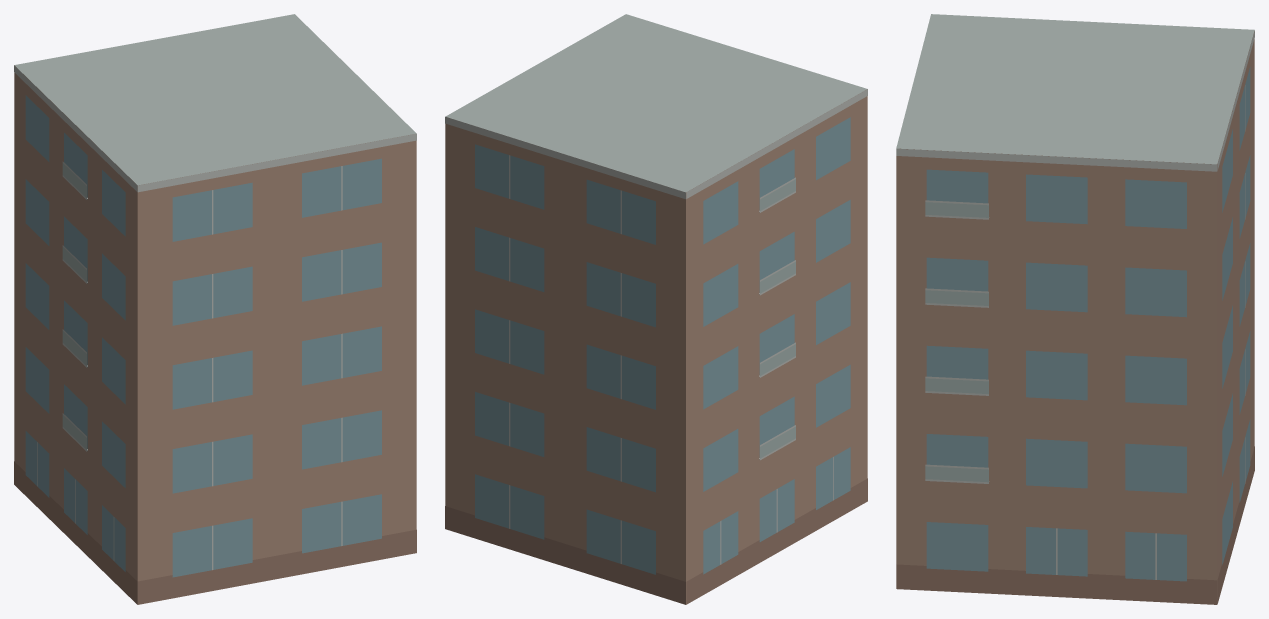
The model's file is survey-upis-32968447.glb.
3 views of the same model, side by side, from view 1: azimuth 30°, elevation 25°; view 2: azimuth 150°, elevation 25°; view 3: azimuth 270°, elevation 25° (orthographic). The views are drawn at different scales.
Parts seen in each view (by area): view 1: survey-upis-32968447.tmp; view 2: survey-upis-32968447.tmp; view 3: survey-upis-32968447.tmp.
Boxes of the visible parts, x1=… form: survey-upis-32968447.tmp: x1=14, y1=14, x2=416, y2=604; survey-upis-32968447.tmp: x1=445, y1=14, x2=867, y2=604; survey-upis-32968447.tmp: x1=896, y1=14, x2=1254, y2=604.
Size of the model in its own units: 10.7 by 14.6 by 10.78.
